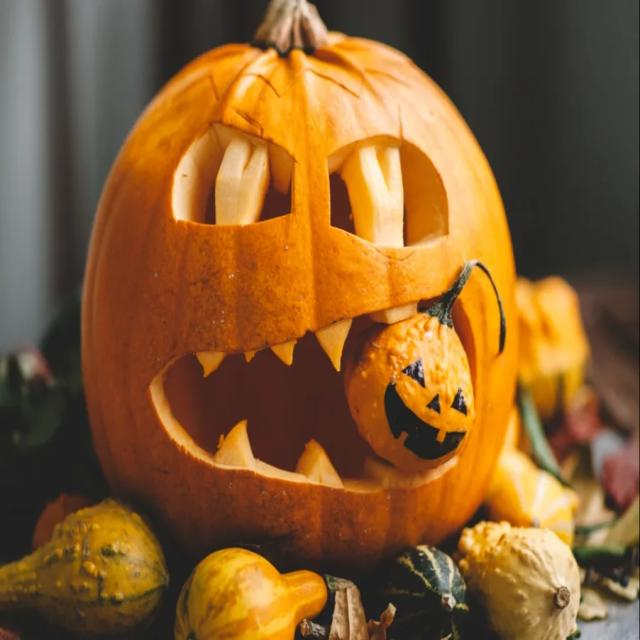pumpkin: (82, 3, 518, 570), (345, 262, 506, 472), (174, 547, 328, 639), (485, 409, 579, 545), (516, 277, 590, 419)
